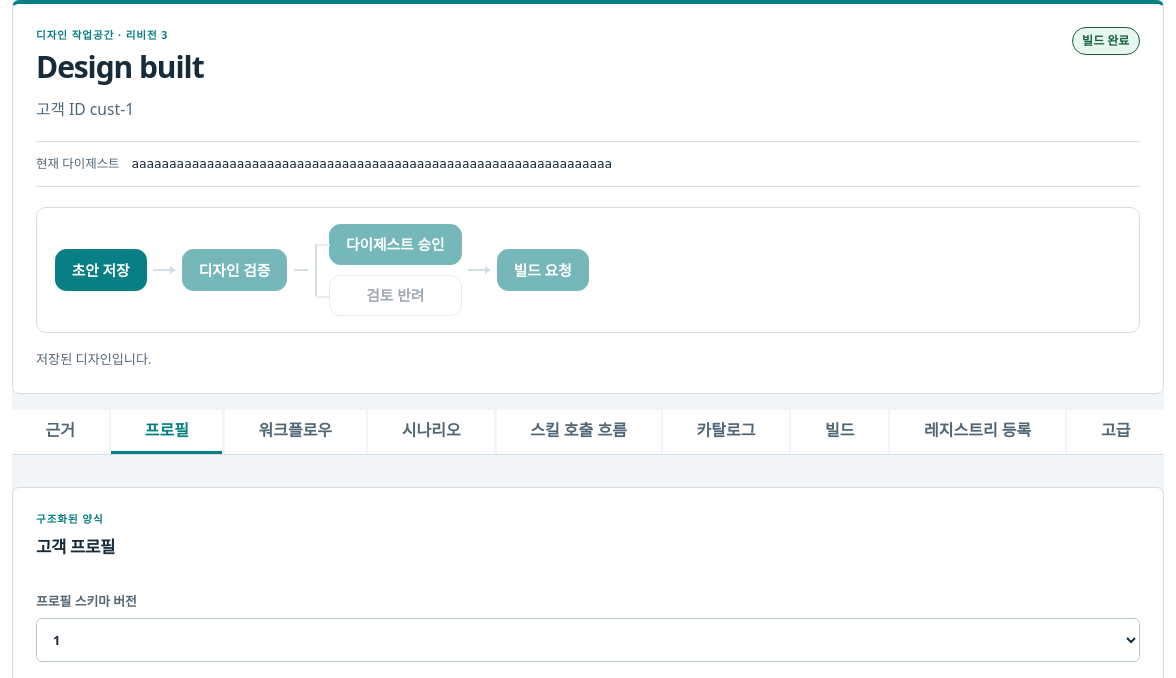
Test: StudioDesignPageContent › renders registry registration only for a built design without changing lifecycle actions
Expected: the heading "Design built" is shown, [36,50,204,83]
Click the tab "레지스트리 등록": click(978, 432) [890,410,1065,454]
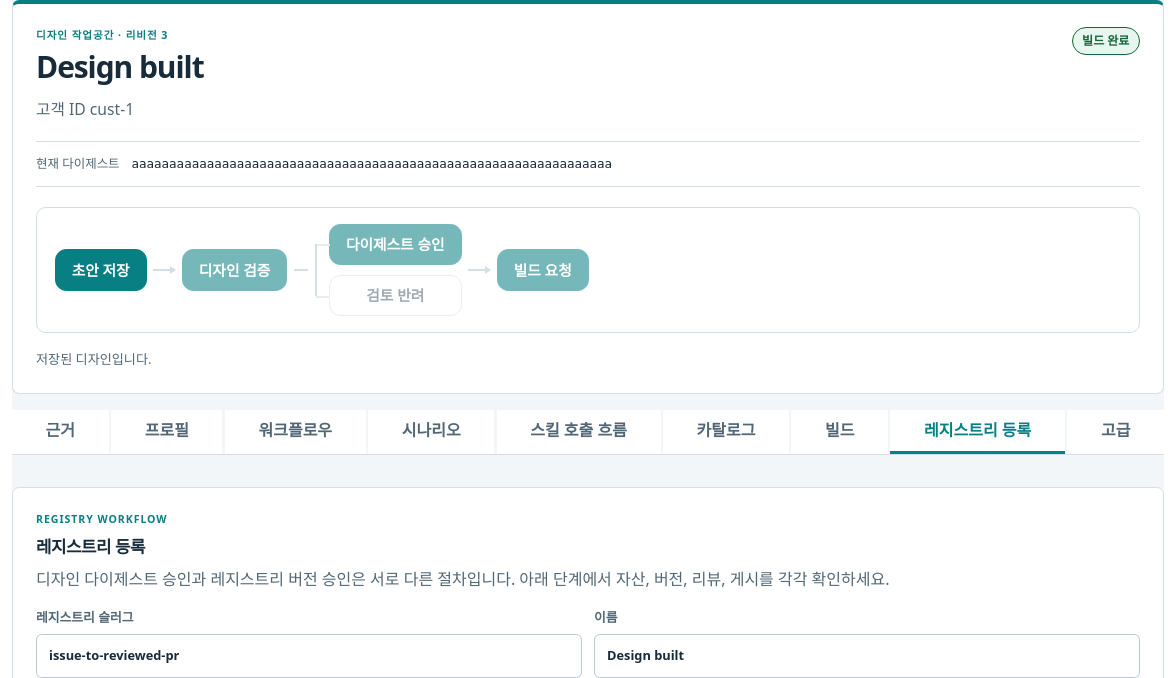
Expected: the button "디자인 검증" is disabled, [182,249,287,291]
Result: the heading "레지스트리 등록" is shown at [36,534,145,558]
